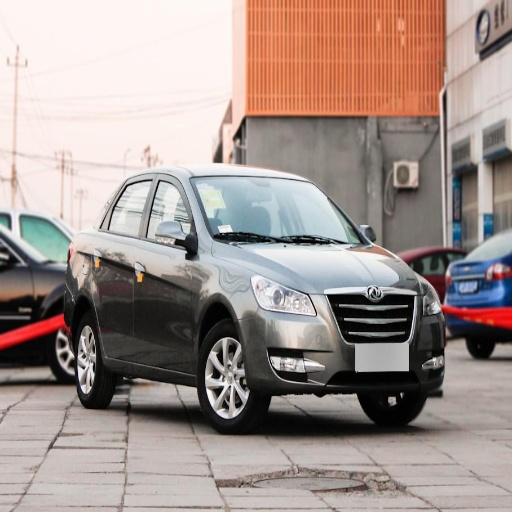front_bumper: (242, 284, 441, 395)
front_right_door: (134, 175, 201, 366)
front_right_light: (251, 275, 316, 316)
hood: (232, 244, 420, 292)
